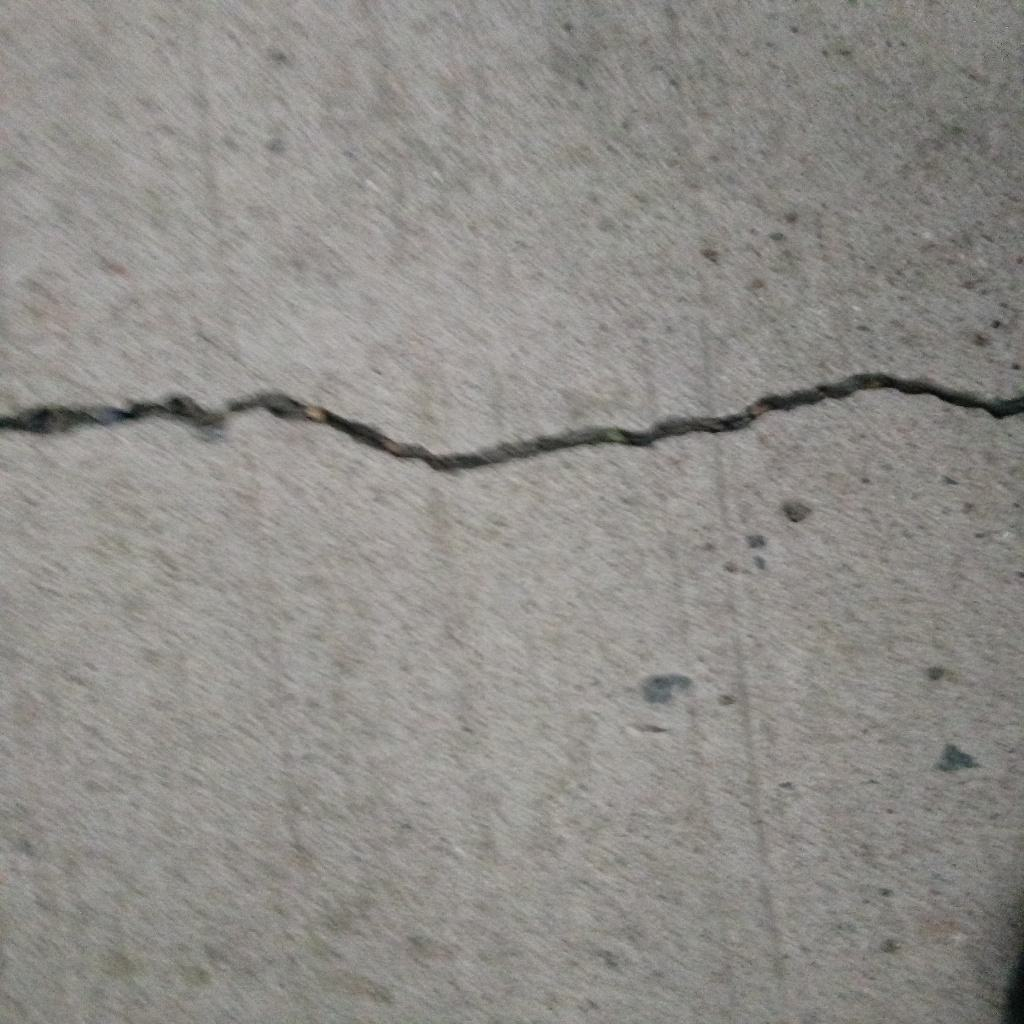Crack: (1, 369, 1024, 475)
